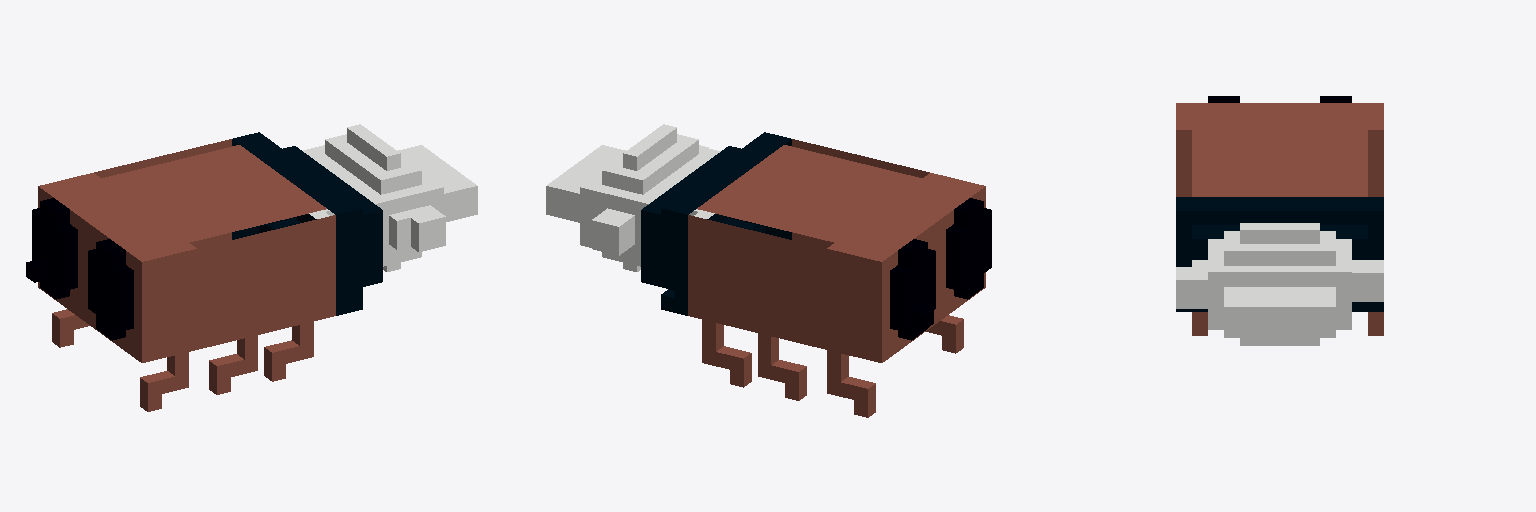
3 views of the same model, side by side, from view 1: azimuth 30°, elevation 25°; view 2: azimuth 150°, elevation 25°; view 3: azimuth 270°, elevation 25° (orthographic).
Visible parts, largest first — view 1: luciernaga; view 2: luciernaga; view 3: luciernaga.
Boxes of the visible parts, x1=… form: luciernaga: x1=26, y1=124, x2=477, y2=411; luciernaga: x1=546, y1=124, x2=991, y2=417; luciernaga: x1=1176, y1=96, x2=1383, y2=345.
Bounding box in the file's own units: 3.61 × 1.55 × 1.68.
Materials: 1 (1 with a texture image).